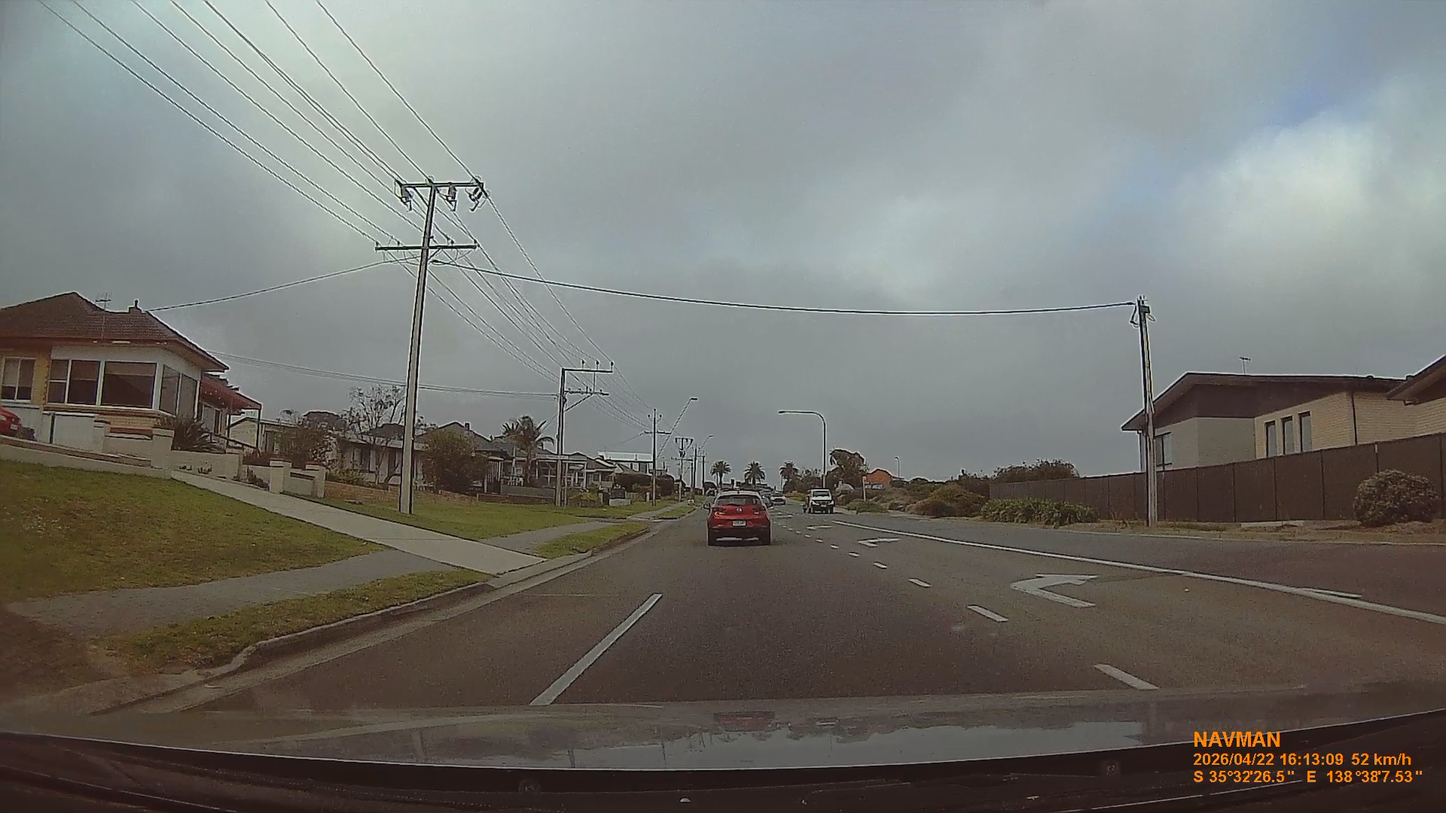fences: (1160, 435, 1445, 522)
